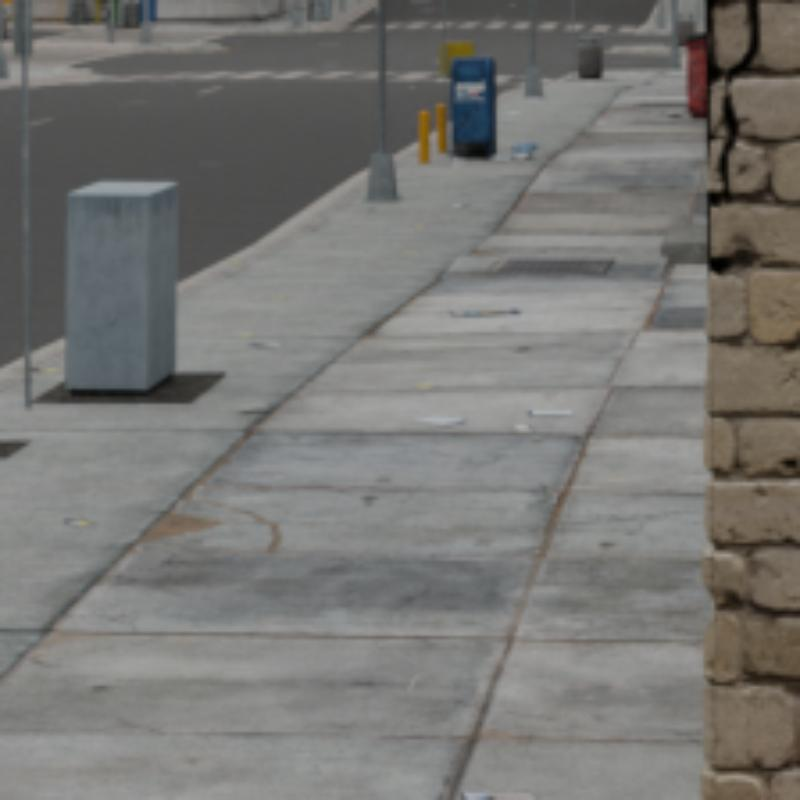pothole: (718, 0, 757, 200)
